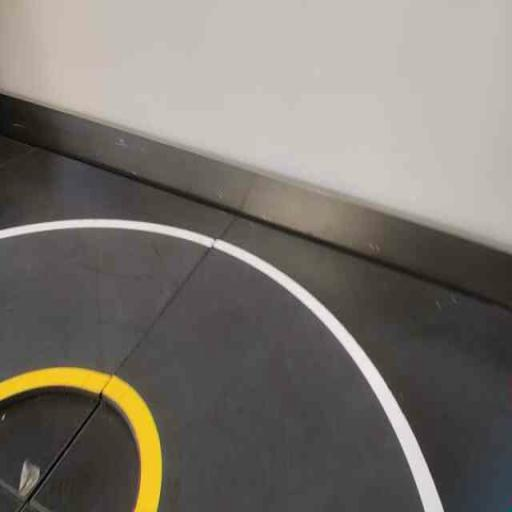left: (61, 209, 495, 511)
